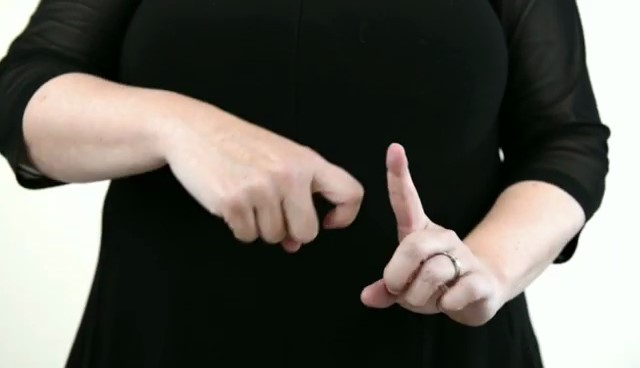K: (184, 99, 516, 337)
